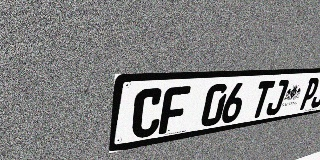0: (199, 83, 229, 128)
6: (220, 82, 248, 124)
C: (130, 88, 165, 140)
F: (158, 86, 191, 135)
J: (264, 79, 290, 116), (309, 77, 320, 108)
P: (298, 77, 320, 110)
T: (249, 80, 275, 119)
